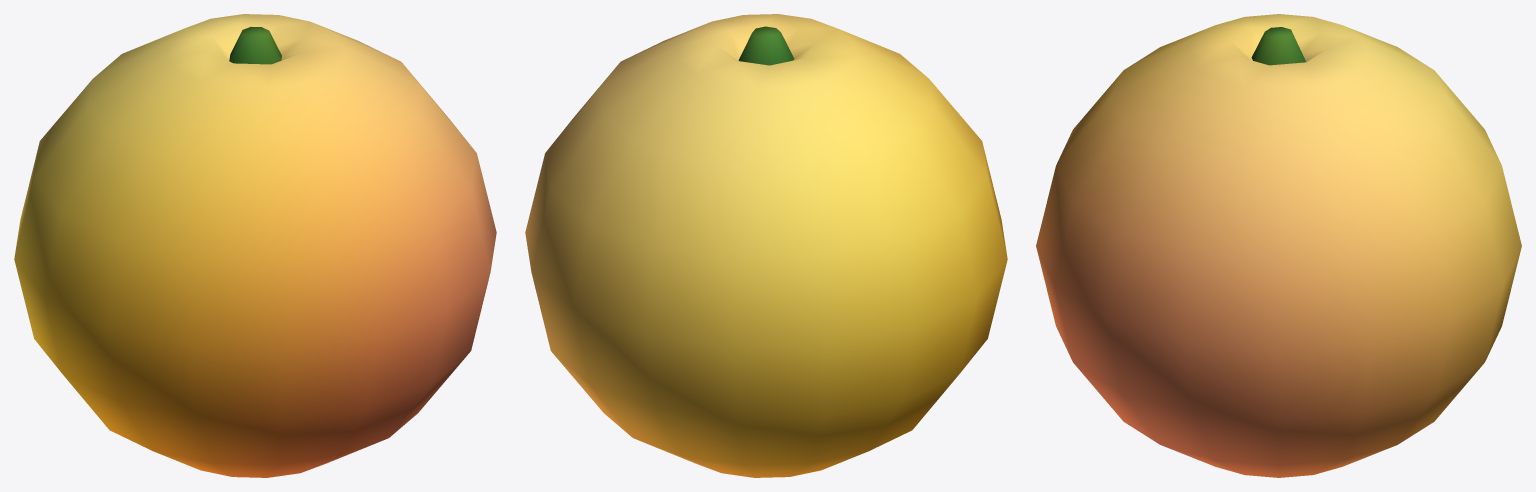
Rendered from grapefruit_002.fbx.
3 renders of one model, left to right at view 1: azimuth 30°, elevation 25°; view 2: azimuth 150°, elevation 25°; view 3: azimuth 270°, elevation 25°, orthographic.
Visible parts, largest first — view 1: grapefruit_002; view 2: grapefruit_002; view 3: grapefruit_002.
Boxes of the visible parts, bbox=[...] form: grapefruit_002: bbox=[14, 14, 496, 477]; grapefruit_002: bbox=[525, 14, 1007, 477]; grapefruit_002: bbox=[1036, 14, 1521, 477].
Size of the model in its own units: 10.98 by 10.98 by 10.55.
